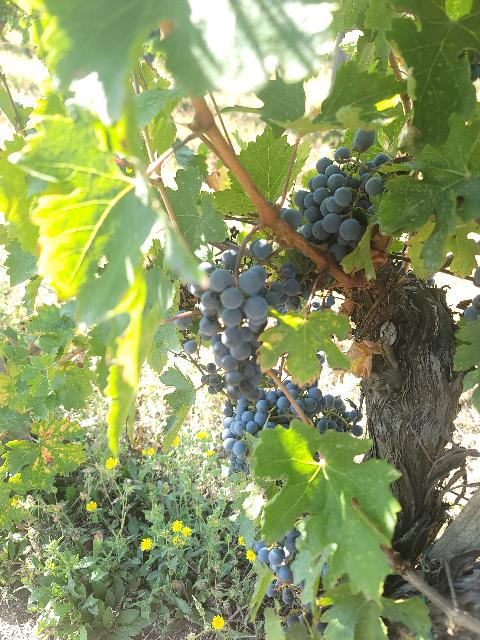grapes: (286, 154, 389, 262), (199, 265, 269, 401), (221, 382, 326, 440)
